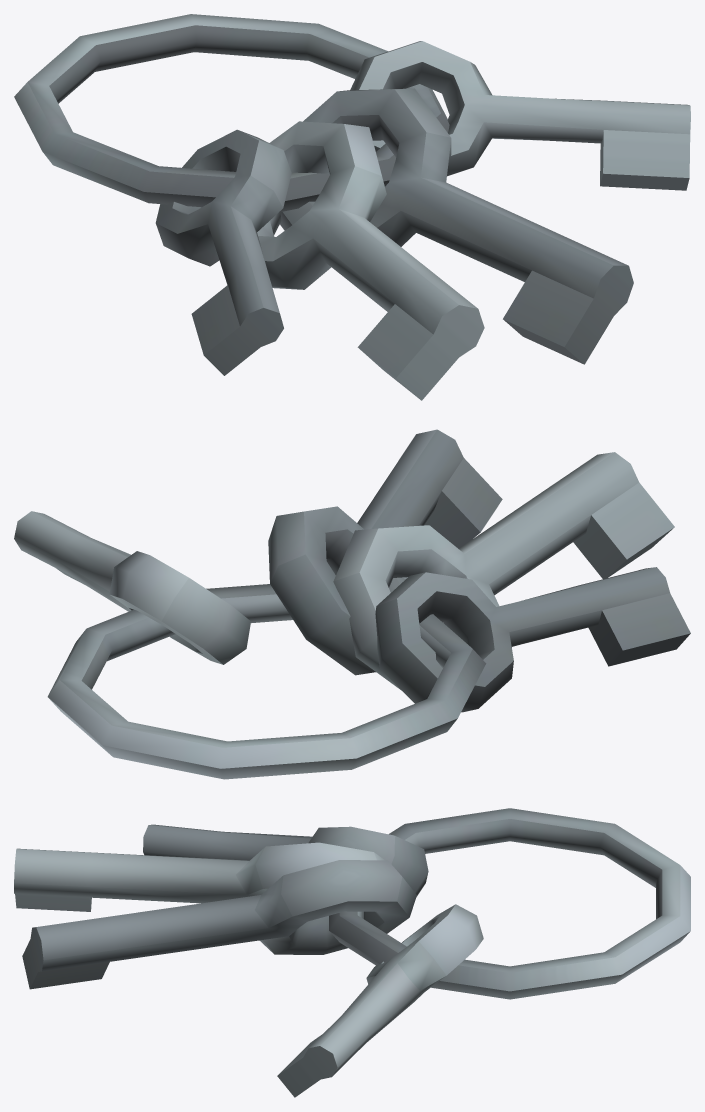
Rendered from keyring.glb.
3 views of the same model, one above another, from view 1: azimuth 30°, elevation 25°; view 2: azimuth 150°, elevation 25°; view 3: azimuth 270°, elevation 25° (orthographic). The views are drawn at different scales.
Visible parts, largest first — view 1: keyring; view 2: keyring; view 3: keyring.
Boxes of the visible parts, x1=… form: keyring: x1=14, y1=14, x2=690, y2=400; keyring: x1=14, y1=429, x2=690, y2=779; keyring: x1=14, y1=808, x2=690, y2=1097.
Bounding box in the file's own units: 1.03 × 0.2613 × 1.21.
Materials: 1 (1 with a texture image).
